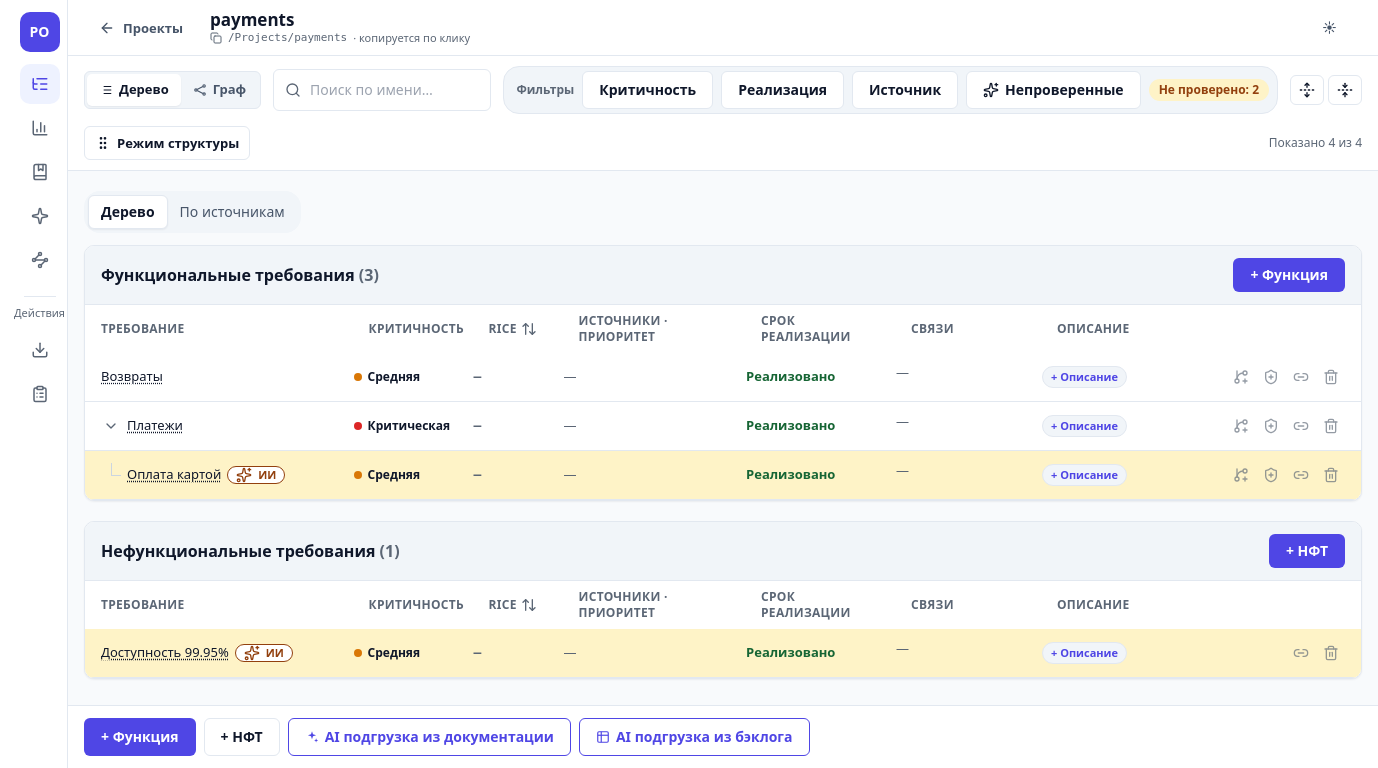
it: Main — фильтр и счётчик непроверенных ИИ-требований (task26) › пересекается с поиском (AND), как остальные фильтры
Expected: the row with test id "tree-row-card" is shown, [85,450,1361,500]
Click the button with test id "filter-ai-pending": coordinates (1053, 90) [966,71,1141,109]
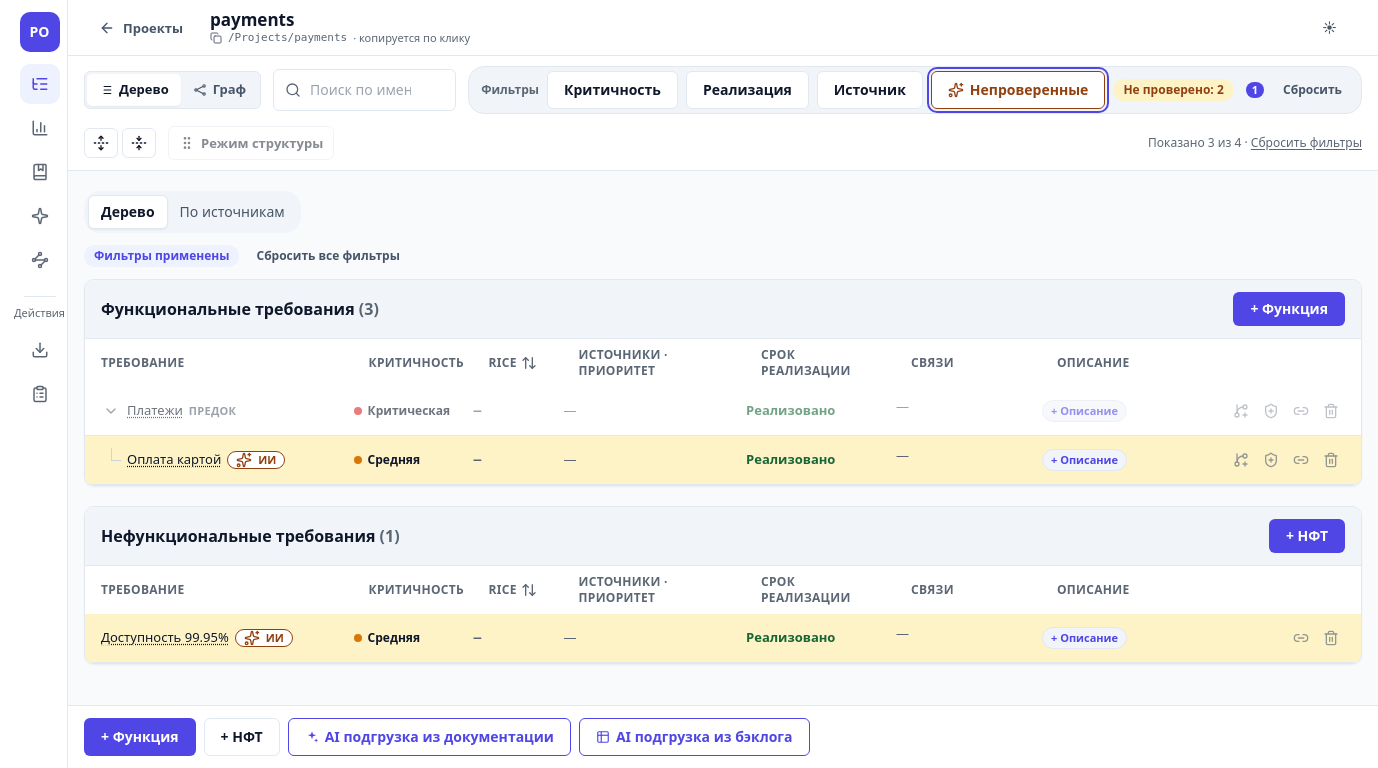
In the search field with test id "search-input": coordinates (365, 90) [273,69,456,111], type "Доступность"
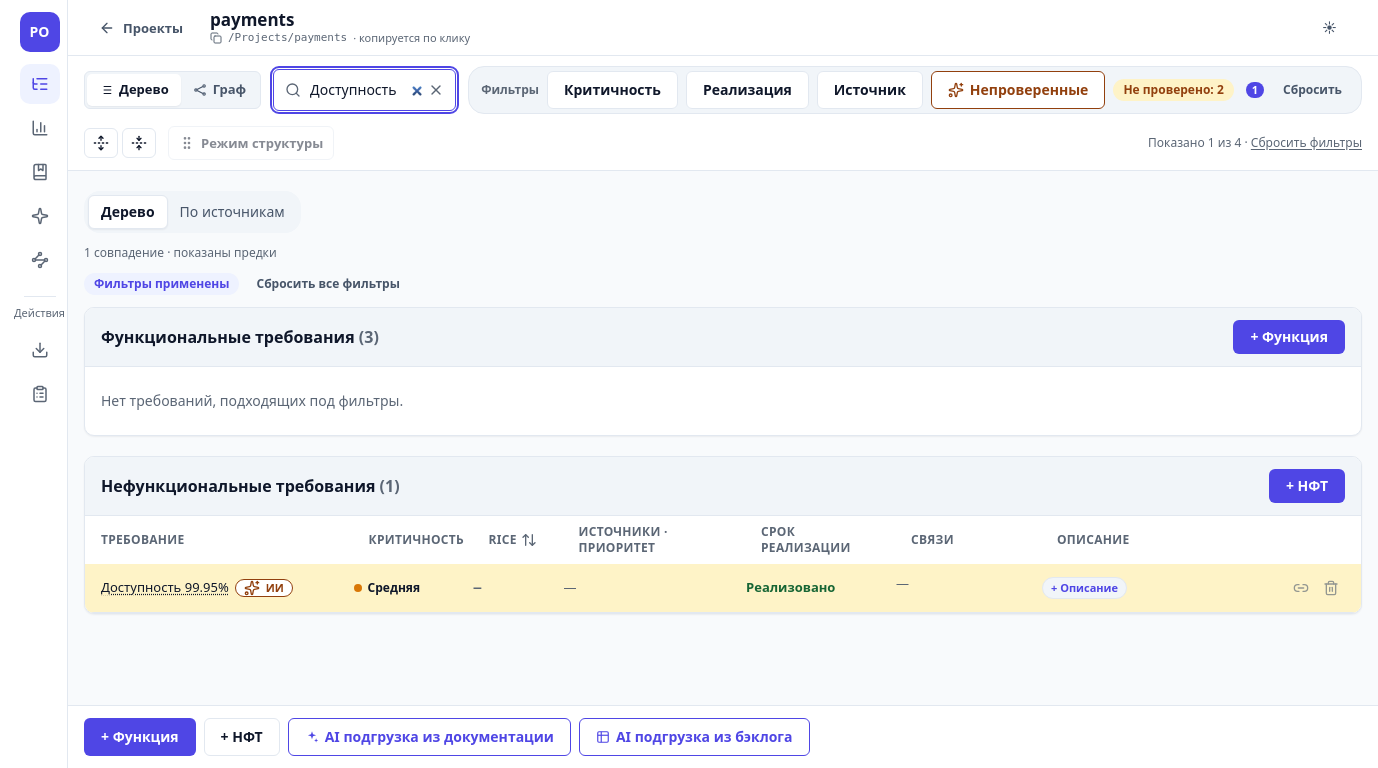
Expected: the row with test id "tree-row-sla" is shown, [85,564,1361,612]
Result: the row with test id "tree-row-card" is gone
